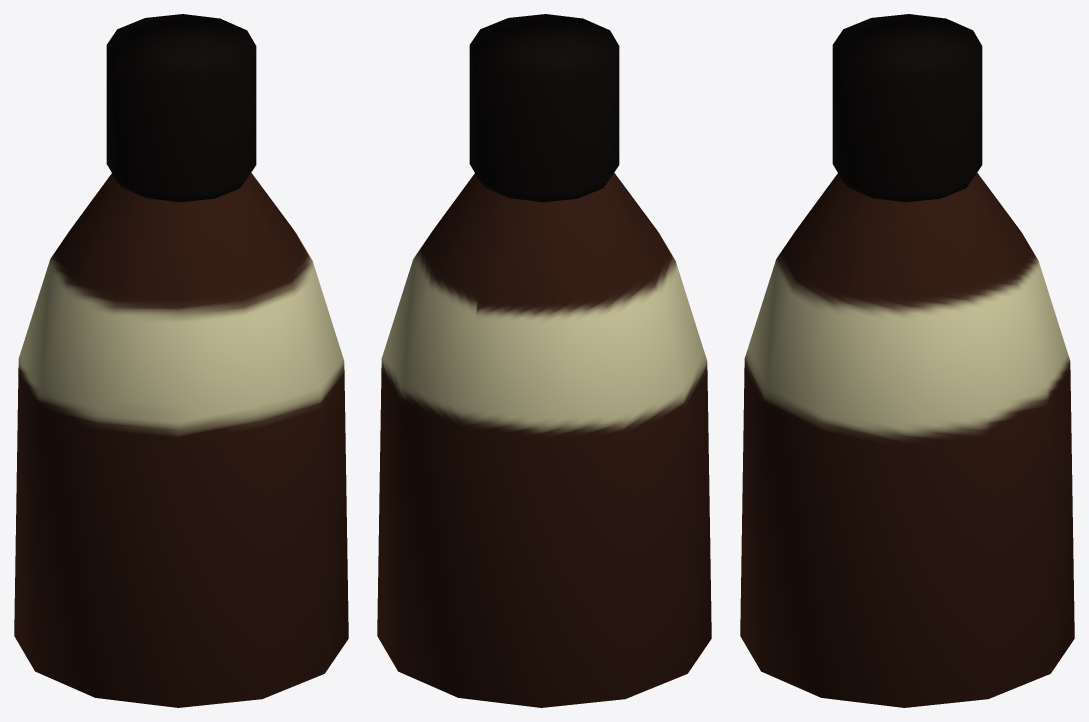
Rendered from MedicineBottle_2.fbx.
3 renders of one model, left to right at view 1: azimuth 30°, elevation 25°; view 2: azimuth 150°, elevation 25°; view 3: azimuth 270°, elevation 25°, orthographic.
Visible parts, largest first — view 1: MedicineBottle_2; view 2: MedicineBottle_2; view 3: MedicineBottle_2.
Part boxes in pixels (left/top/right/bottom): MedicineBottle_2: left=14, top=14, right=348, bottom=707; MedicineBottle_2: left=377, top=14, right=711, bottom=707; MedicineBottle_2: left=740, top=14, right=1074, bottom=707.
Bounding box in the file's own units: 42.66 × 83.24 × 42.66.
